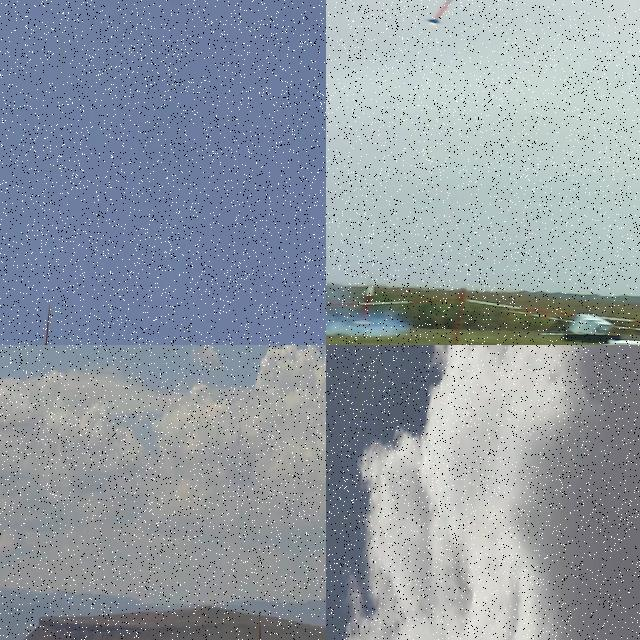Rocket: (352, 286, 376, 326), (426, 0, 454, 24), (43, 304, 50, 345), (257, 609, 263, 640)
